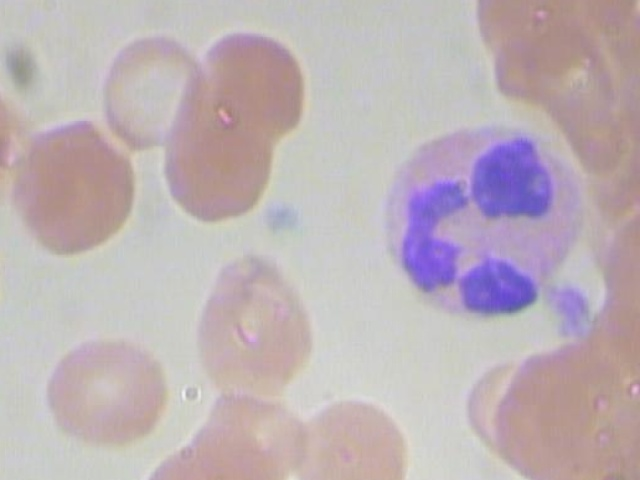Platelets: (541, 277, 595, 340)
RBC: (185, 242, 322, 407), (2, 116, 144, 262), (36, 329, 175, 453), (89, 20, 206, 158), (146, 106, 275, 223), (191, 16, 319, 132), (284, 394, 415, 480), (131, 431, 292, 480)
WBC: (372, 113, 588, 323)
